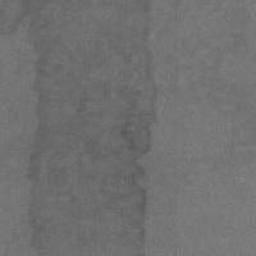Water spot: (0, 0, 156, 256)
